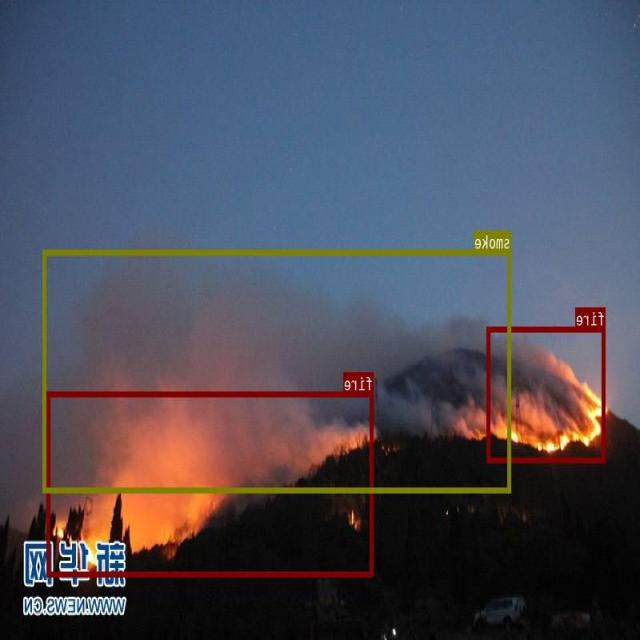fire: (47, 390, 374, 576), (488, 326, 606, 462)
smoke: (44, 249, 512, 492)
